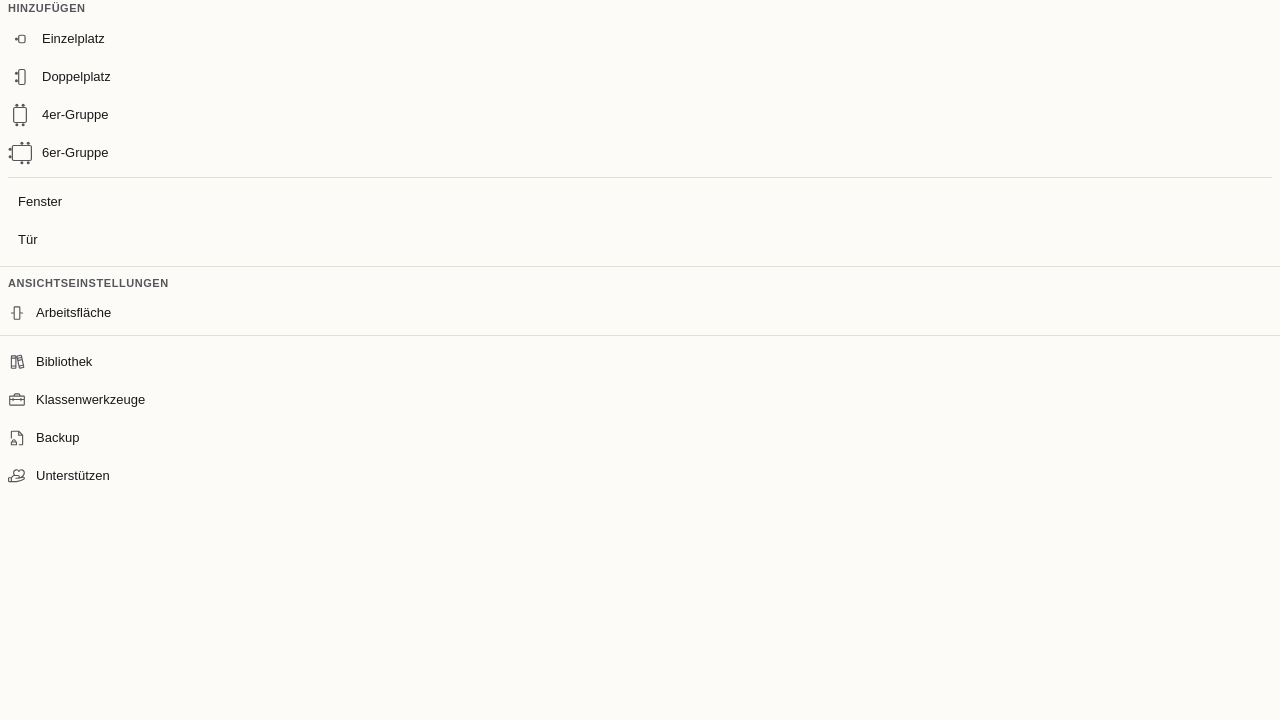
Scenario: RoomToolPanel › opens the view settings from the toolbar
What coordinates should you click on to do the following:
click the button "Arbeitsfläche"
I would click on:
 (74, 313)
Its box is [0,295,1279,331].
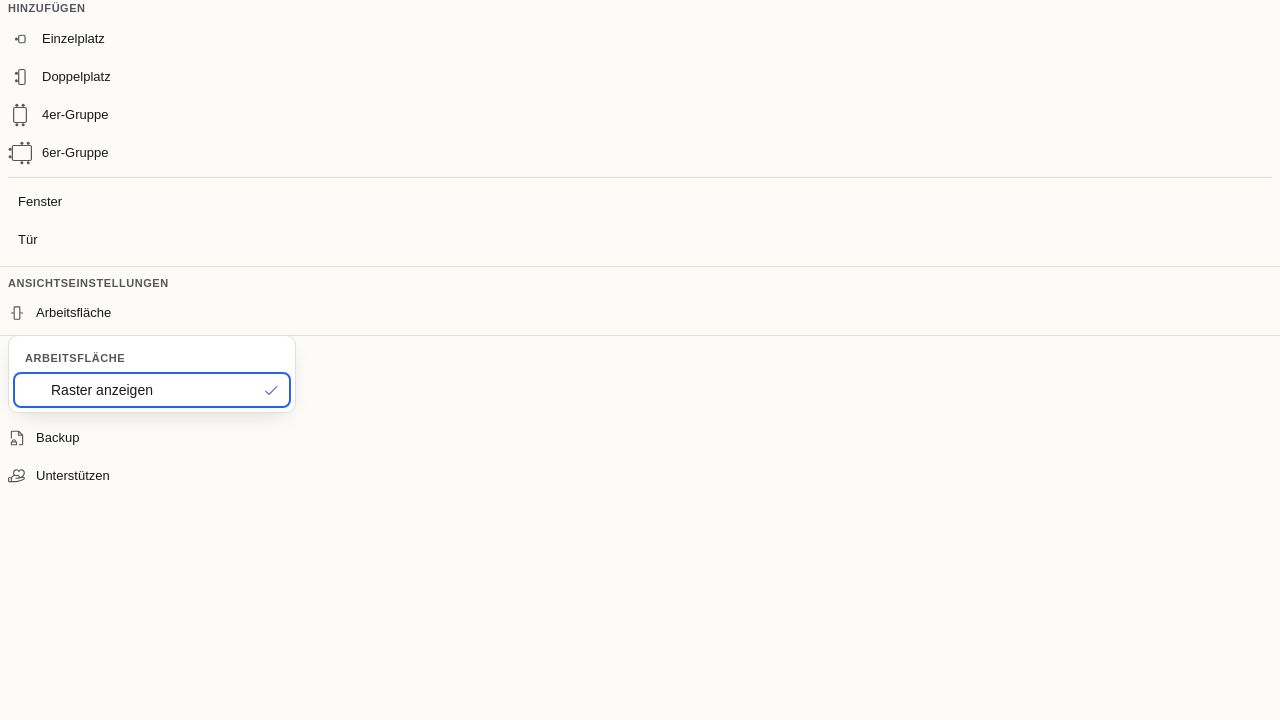
Check: the dialog "Arbeitsfläche Raster anzeigen" is shown, box [8,335,296,413]
Check: the text "Raster anzeigen" is shown, box [51,382,153,398]
